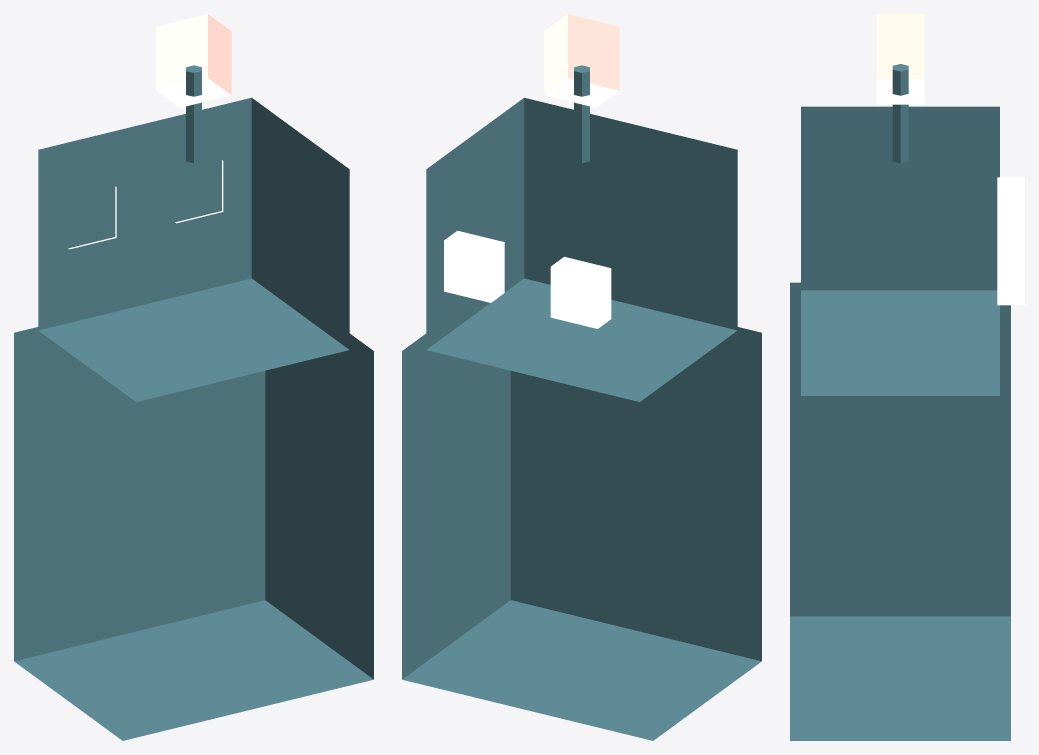
Rendered from robot.glb.
3 views of the same model, side by side, from view 1: azimuth 30°, elevation 25°; view 2: azimuth 150°, elevation 25°; view 3: azimuth 270°, elevation 25° (orthographic).
Parts seen in each view (by area): view 1: dark, tip; view 2: dark, eyes, tip; view 3: dark, tip, eyes.
Part boxes in pixels (box(x1,y1,x2,y2)): dark: box(14, 65, 373, 740); tip: box(156, 14, 231, 107); dark: box(402, 65, 761, 740); eyes: box(444, 230, 611, 328); tip: box(544, 14, 619, 107); dark: box(790, 64, 1010, 740); tip: box(876, 14, 924, 104); eyes: box(997, 177, 1024, 305).
Size of what is drawn, in the model's own units: 0.16 by 0.3905 by 0.1275.
